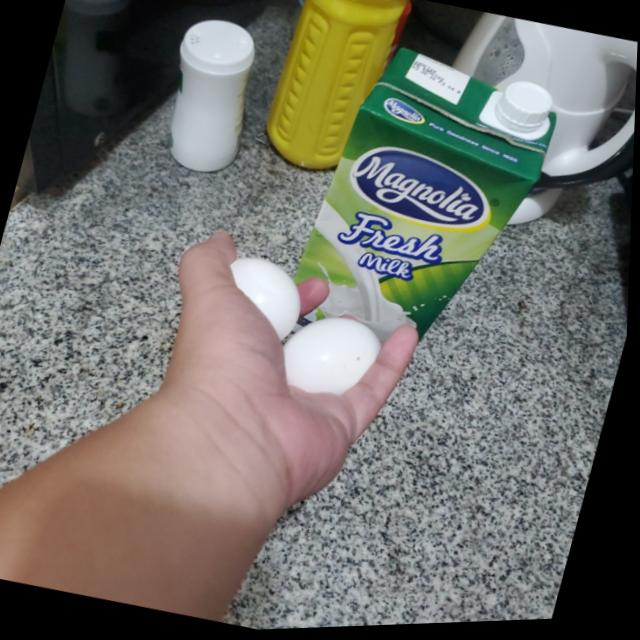egg: (276, 309, 390, 407), (212, 250, 311, 348)
milk: (283, 34, 573, 378)
